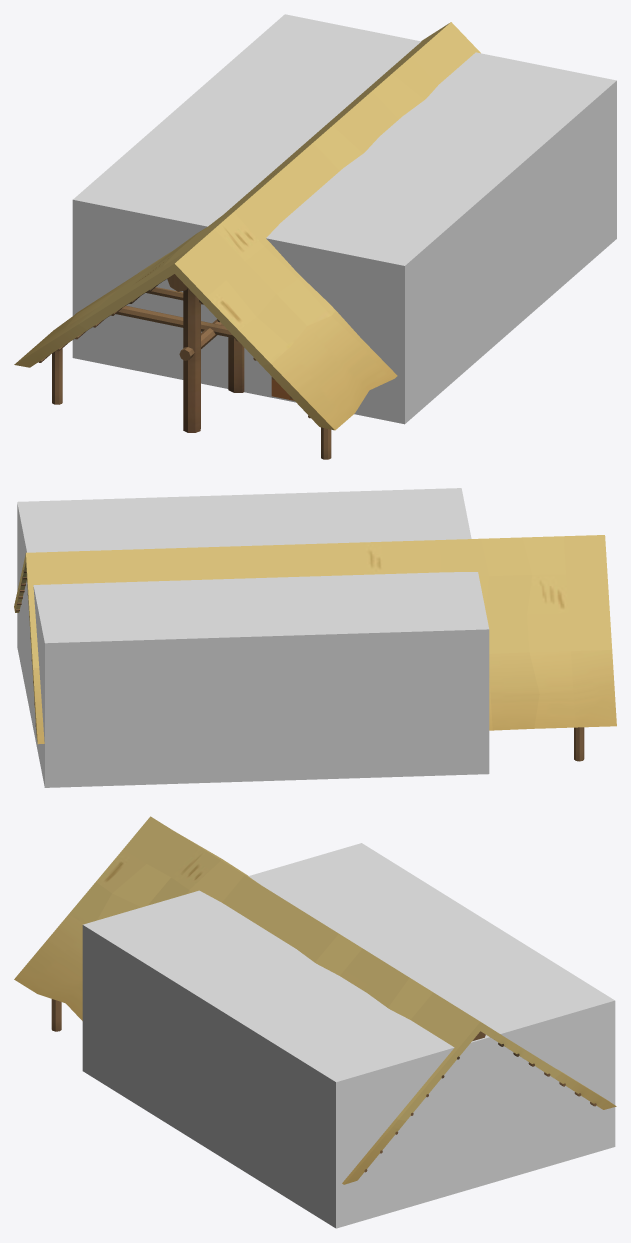
File: House3.gltf
3 renders of one model, top to bottom at view 1: azimuth 30°, elevation 25°; view 2: azimuth 150°, elevation 25°; view 3: azimuth 270°, elevation 25°, orthographic. The views are drawn at different scales.
Visible parts, largest first — view 1: boxhouse.001, House; view 2: boxhouse.001, House; view 3: boxhouse.001, House.
Boxes of the visible parts, bbox=[...] form: boxhouse.001: bbox=[72, 14, 616, 424]; House: bbox=[14, 22, 480, 459]; boxhouse.001: bbox=[17, 488, 489, 787]; House: bbox=[14, 535, 616, 761]; boxhouse.001: bbox=[82, 843, 615, 1228]; House: bbox=[14, 816, 616, 1184].
Size of the model in its own units: 20.3 by 5.59 by 18.21.
Materials: 1 (1 with a texture image).
